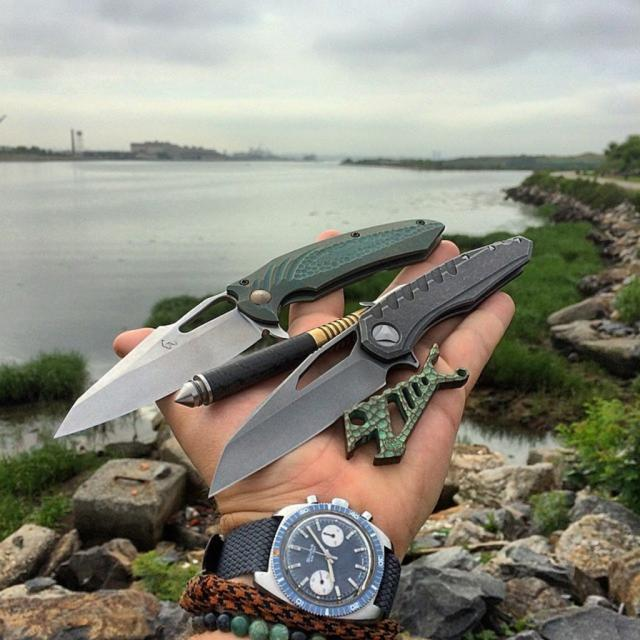Knife: (56, 219, 444, 437), (210, 236, 531, 494)
